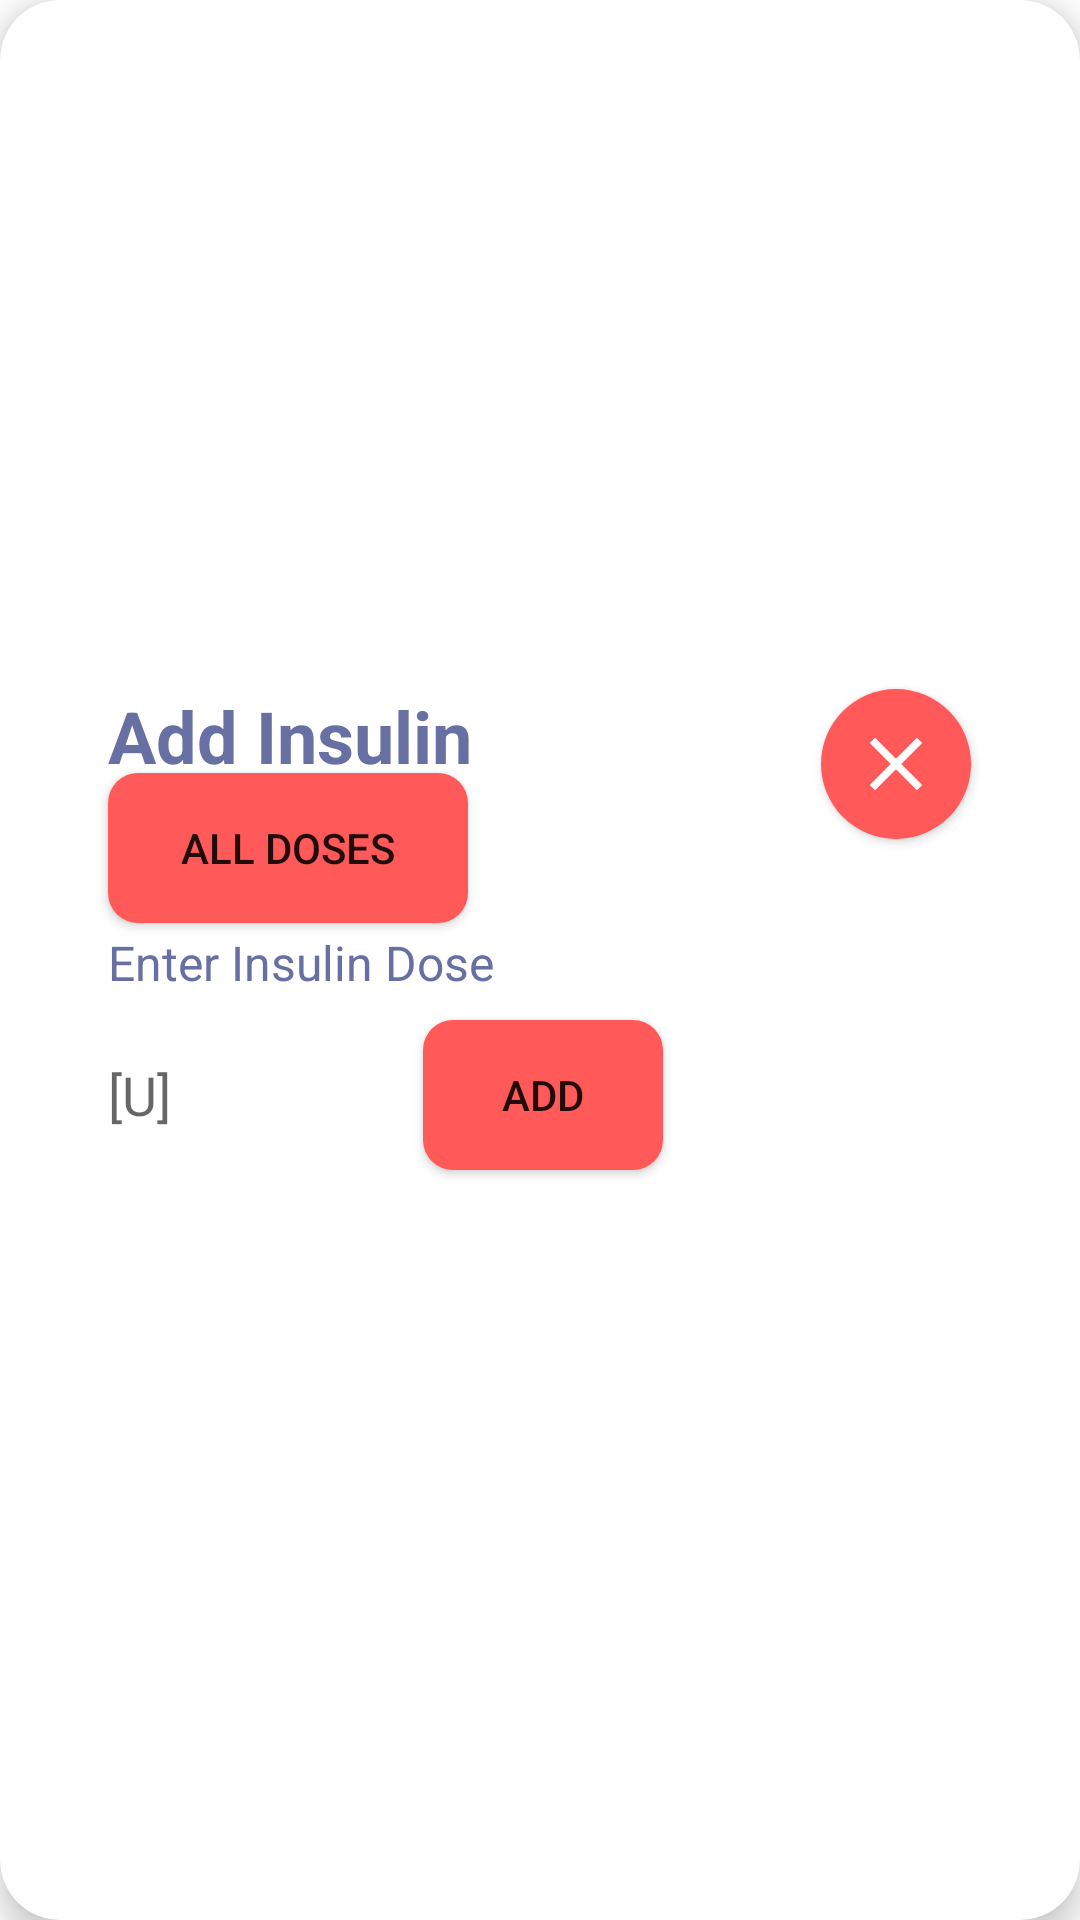

Named icons in this screenshot (1080×1920) and their bounding boxes, region(x1, y1, x2, y2):
close: region(821, 689, 971, 839)
